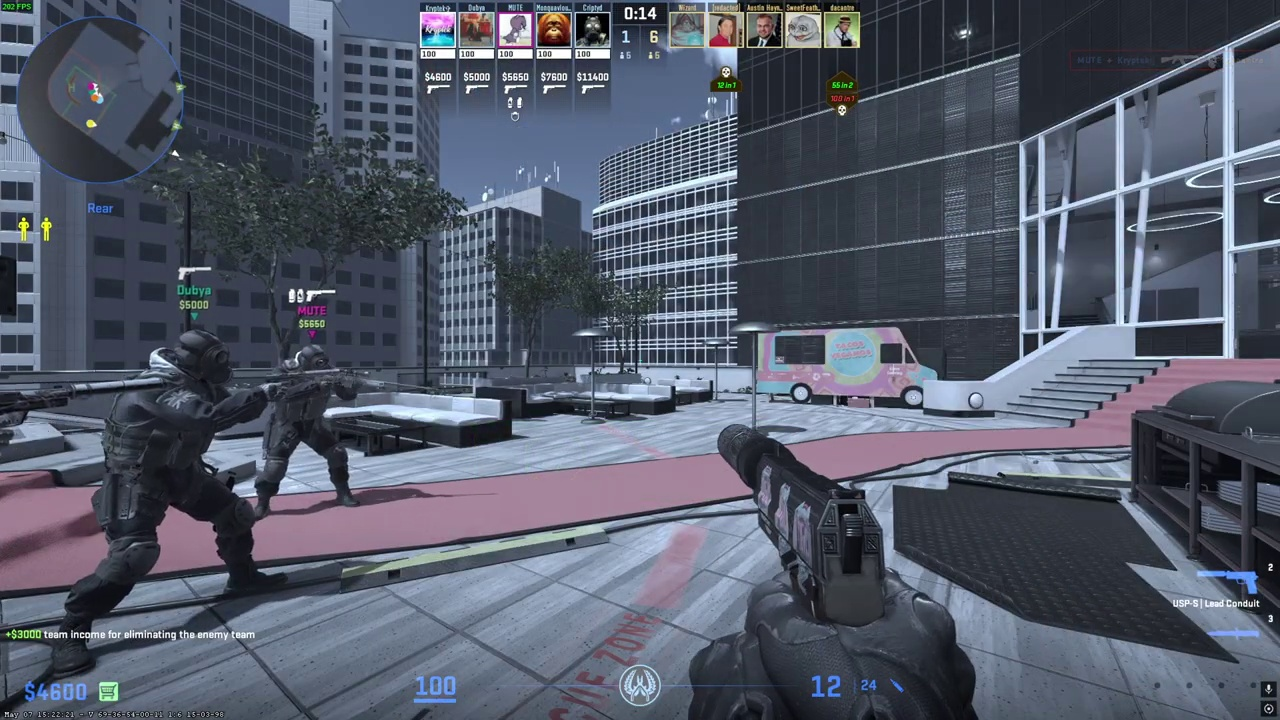CT: (77, 328, 263, 660), (252, 343, 360, 517)
